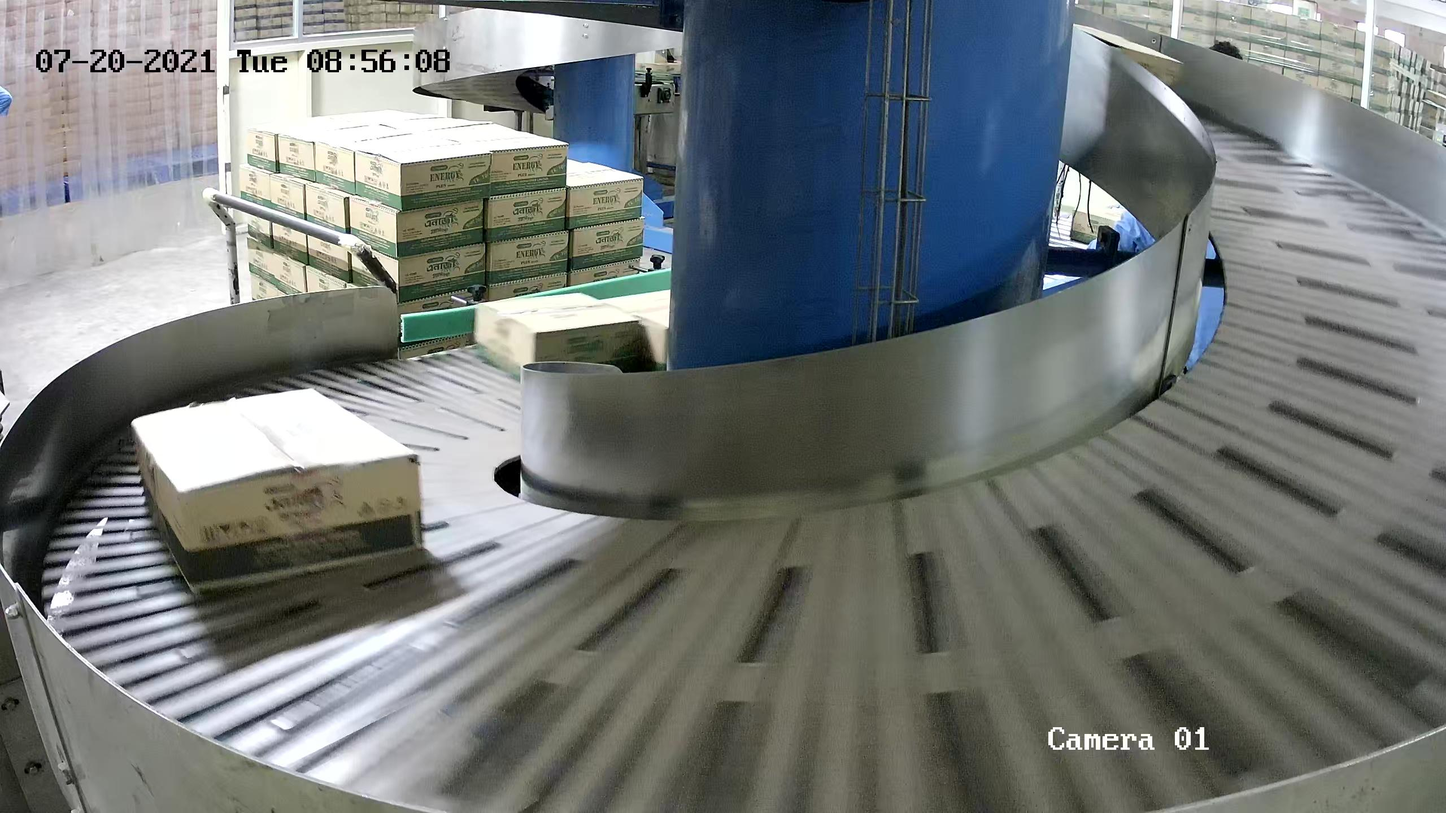Box: (129, 386, 425, 597), (473, 291, 643, 386), (596, 288, 671, 371)
